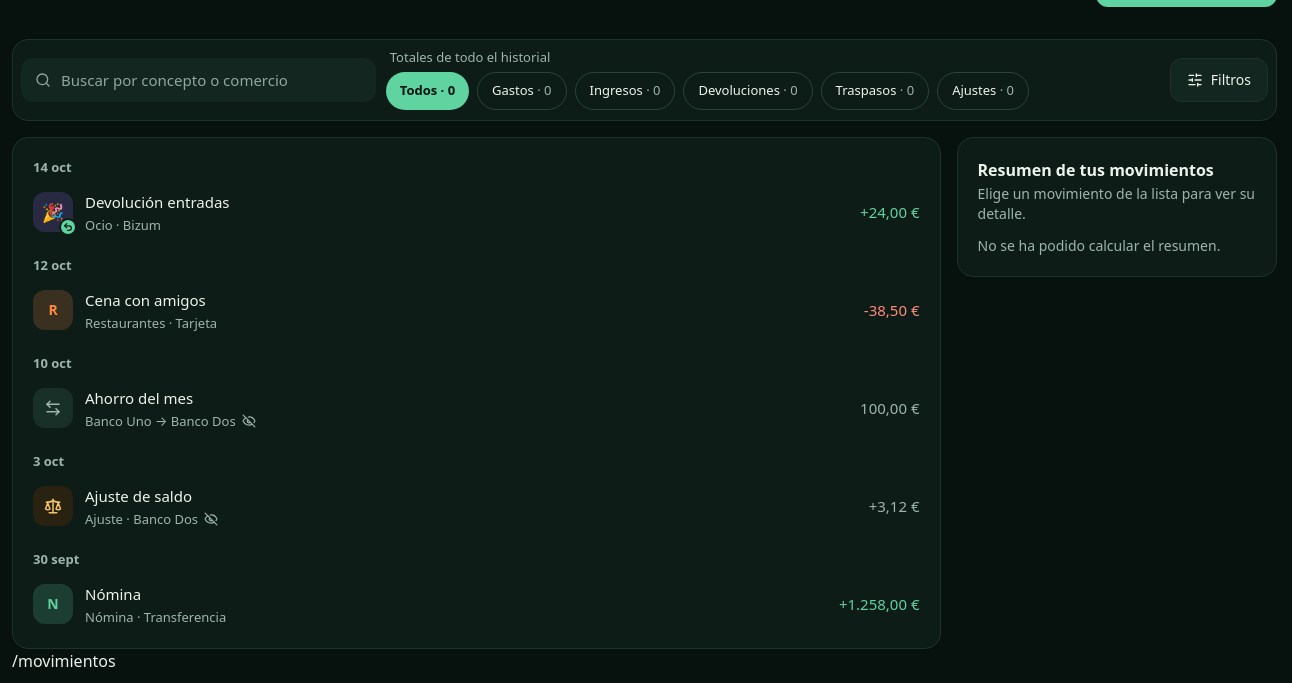
Test case: Lista de movimientos › la búsqueda va a la URL y llega a la consulta sin caracteres reservados
Check: the heading "14 oct" is shown, box [33,158,72,176]
Type "cena),id.neq.0" into the search field labelled "Buscar" at (211, 80), box [61,68,362,91]
(page scrolled)
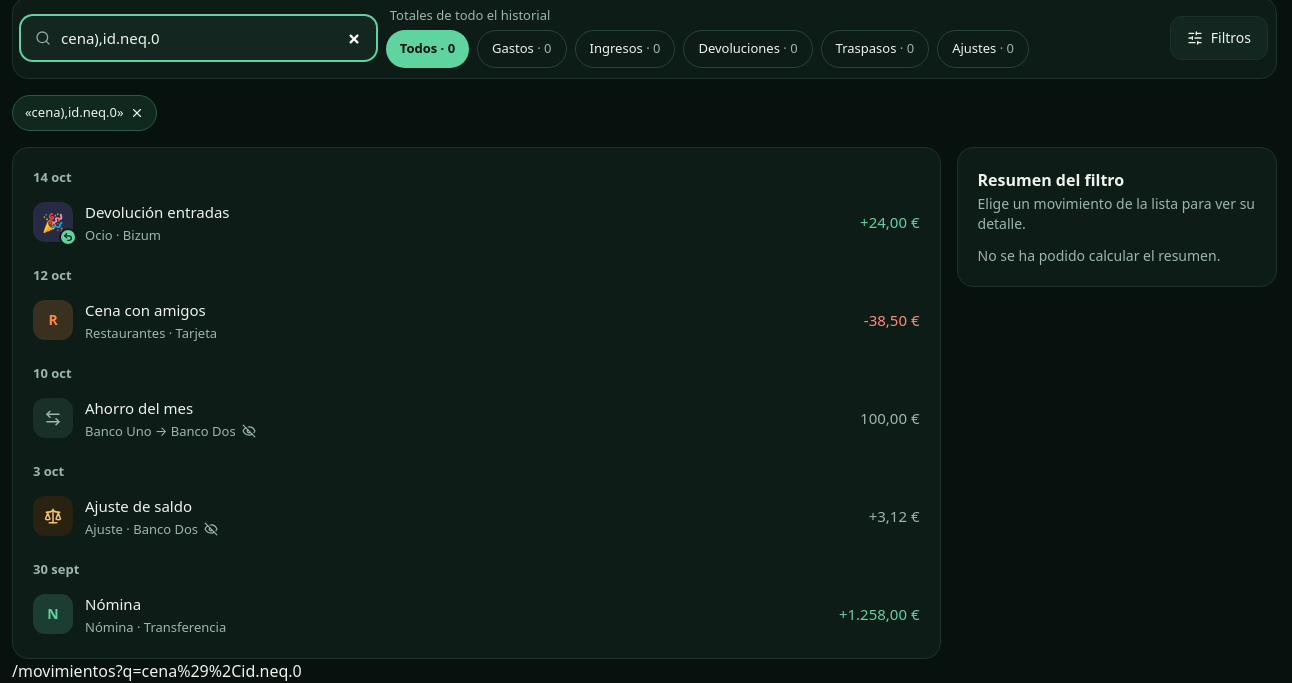
Check: the text with test id "ubicacion" shows "q=cena", box [12,660,302,682]
